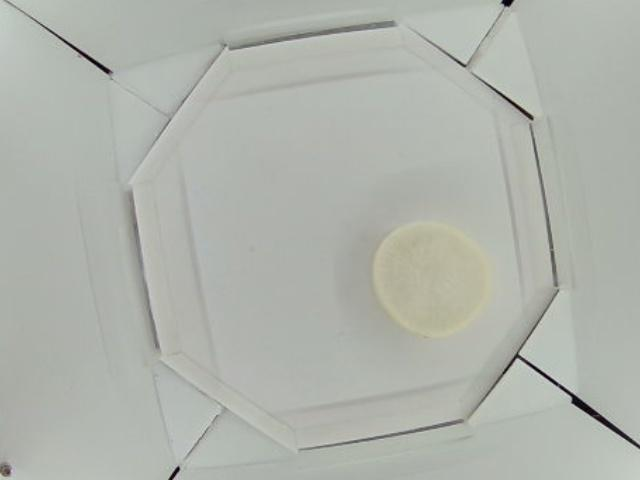Mooli: (372, 222, 488, 340)
